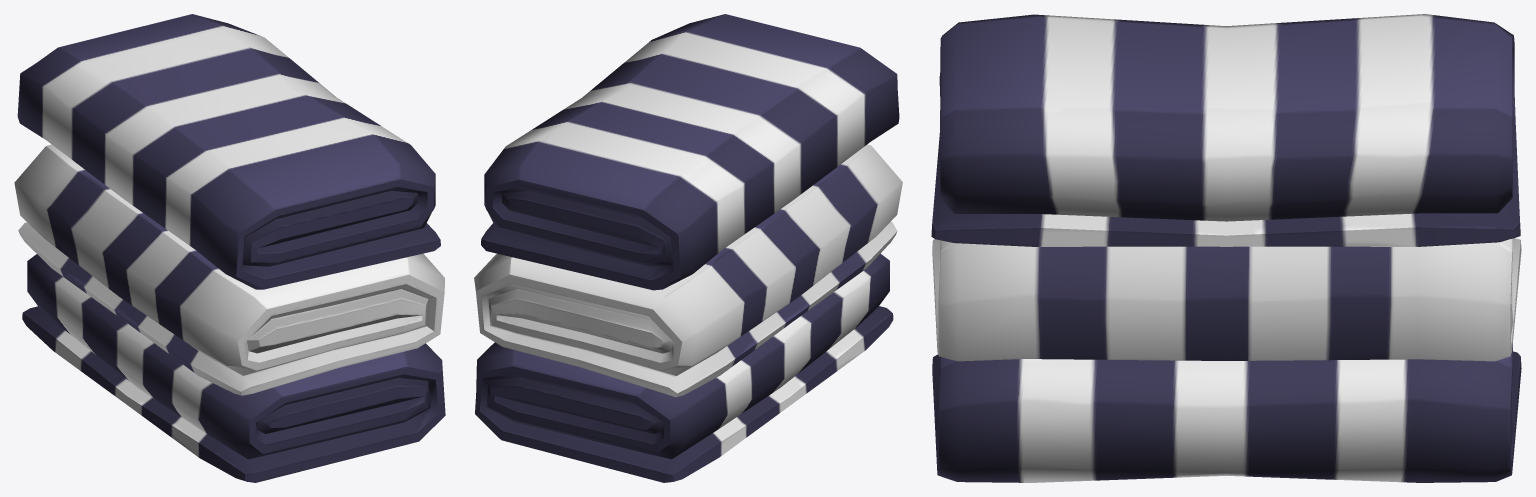
Rendered from housepack_towel_pile_1.FBX.
The picture shows the model from 3 angles, left to right: view 1: azimuth 30°, elevation 25°; view 2: azimuth 150°, elevation 25°; view 3: azimuth 270°, elevation 25°; orthographic projection. The views are drawn at different scales.
Visible parts, largest first — view 1: housepack_towel_pile_1; view 2: housepack_towel_pile_1; view 3: housepack_towel_pile_1.
Boxes of the visible parts, bbox=[...] form: housepack_towel_pile_1: bbox=[14, 14, 445, 482]; housepack_towel_pile_1: bbox=[474, 14, 902, 482]; housepack_towel_pile_1: bbox=[931, 14, 1521, 482].
Bounding box in the file's own units: 21.7 × 25.09 × 36.12.
